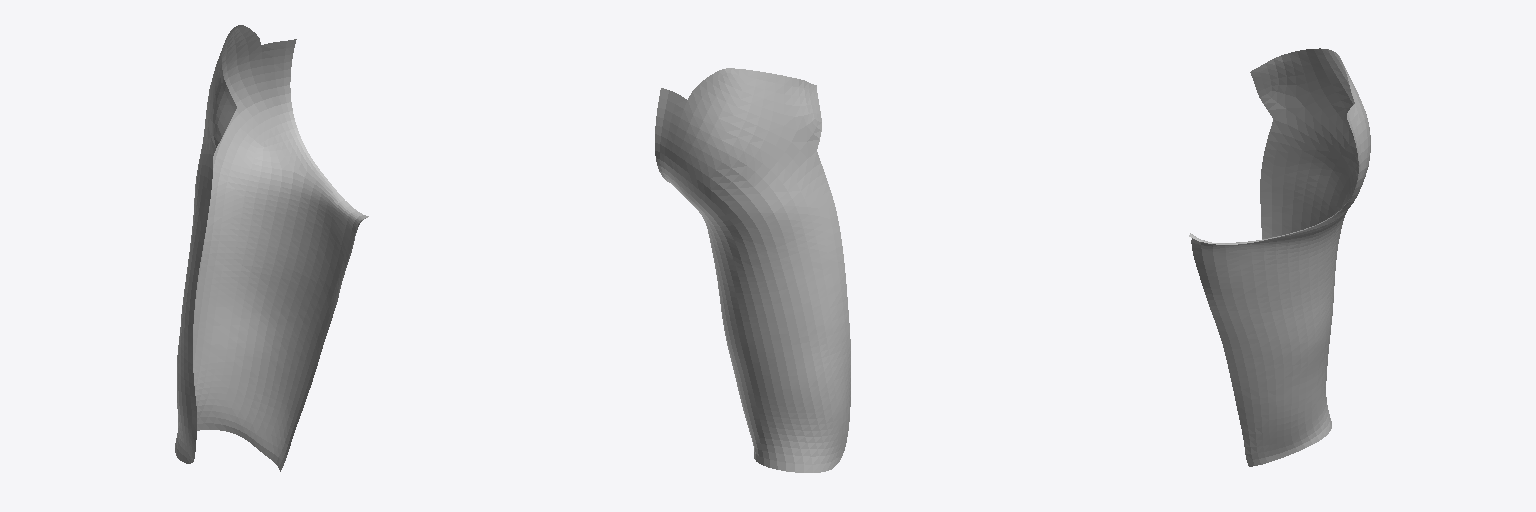
Rendered from right_hamstring.obj.
The picture shows the model from 3 angles: view 1: azimuth 30°, elevation 25°; view 2: azimuth 150°, elevation 25°; view 3: azimuth 270°, elevation 25°; orthographic projection.
Parts seen in each view (by area): view 1: 000_Male_base_-_piece_1_-_piece; view 2: 000_Male_base_-_piece_1_-_piece; view 3: 000_Male_base_-_piece_1_-_piece.
Part boxes in pixels (bbox=[...]): 000_Male_base_-_piece_1_-_piece: bbox=[175, 25, 368, 471]; 000_Male_base_-_piece_1_-_piece: bbox=[655, 68, 850, 472]; 000_Male_base_-_piece_1_-_piece: bbox=[1189, 48, 1370, 466].
Bounding box in the file's own units: 2.32 × 6.18 × 2.47.